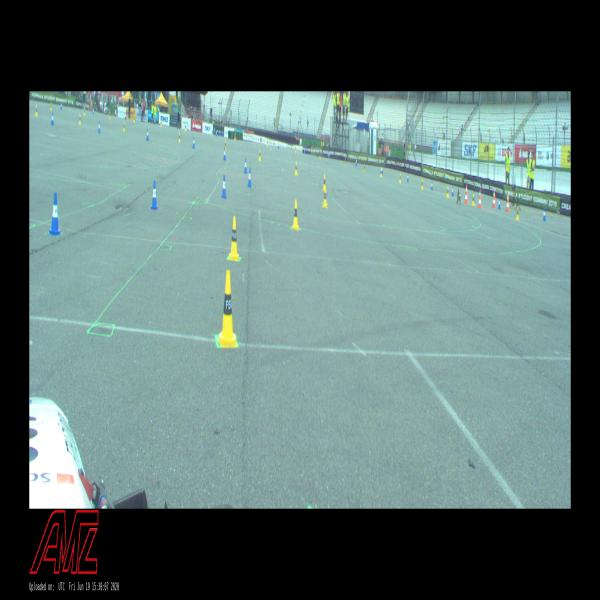blue_cone: (48, 193, 61, 236), (151, 180, 157, 210), (221, 175, 227, 198), (247, 168, 252, 187), (542, 207, 546, 221), (244, 158, 247, 173), (51, 112, 54, 125), (223, 148, 226, 160), (192, 136, 195, 148), (498, 197, 501, 209), (146, 129, 149, 140), (451, 186, 454, 196), (406, 173, 409, 182), (98, 120, 100, 133), (431, 182, 433, 190), (60, 102, 62, 110), (381, 166, 383, 174), (154, 118, 156, 126), (304, 147, 306, 154), (328, 152, 330, 158), (356, 158, 357, 166), (93, 108, 94, 114), (188, 124, 189, 130), (216, 130, 217, 136), (246, 136, 247, 142), (278, 142, 279, 148)
large_orange_cone: (464, 184, 468, 203), (478, 189, 482, 208), (506, 194, 510, 212), (492, 190, 496, 207)
yellow_cone: (218, 270, 238, 348), (228, 216, 240, 260), (292, 199, 299, 229), (322, 186, 328, 208), (322, 174, 326, 191), (516, 206, 519, 220), (78, 114, 82, 124), (35, 104, 38, 116), (446, 186, 449, 198), (258, 149, 261, 161), (472, 193, 475, 205), (295, 162, 297, 175), (399, 173, 401, 184), (421, 178, 423, 189), (123, 121, 125, 132), (380, 167, 382, 177), (363, 163, 365, 172), (50, 102, 52, 110), (109, 112, 111, 120), (160, 120, 162, 127), (234, 133, 236, 140), (319, 152, 321, 159), (184, 125, 186, 131), (179, 132, 180, 142), (225, 140, 226, 150), (295, 145, 296, 153), (345, 158, 346, 166), (84, 109, 85, 116), (212, 129, 213, 136), (134, 116, 135, 122), (267, 140, 268, 146)
